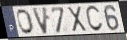6: (103, 4, 120, 32)
7: (52, 6, 65, 34)
C: (85, 5, 104, 33)
O: (16, 8, 35, 35)
V: (31, 6, 49, 36)
X: (66, 6, 89, 34)
